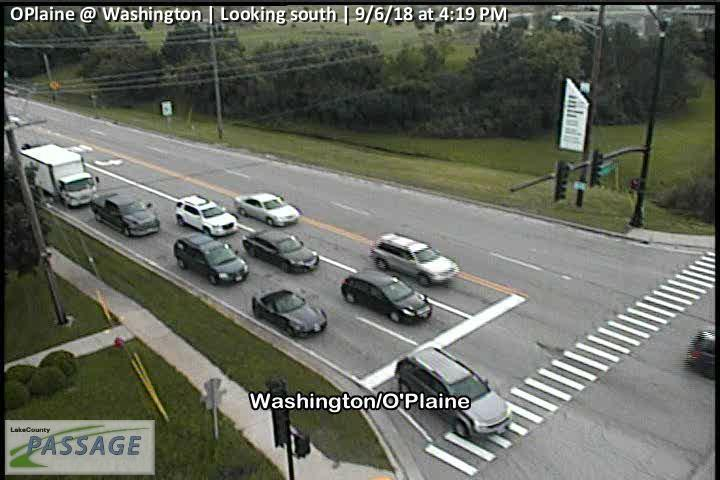SUV: (394, 346, 515, 440), (365, 232, 460, 287), (174, 232, 250, 286), (172, 195, 237, 238)
Sedan: (340, 270, 433, 326), (253, 286, 329, 337), (243, 226, 321, 274), (231, 192, 304, 229)
Truck: (19, 140, 100, 208), (87, 191, 162, 237)
